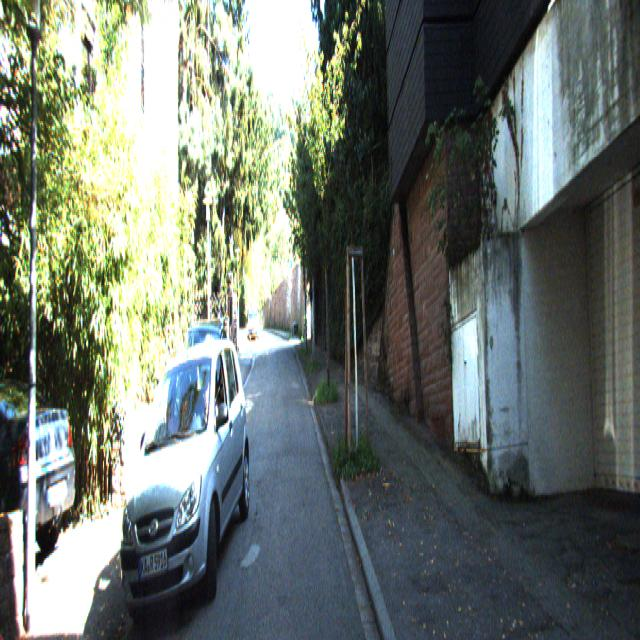Car: (111, 316, 251, 629), (0, 352, 84, 599), (168, 318, 232, 496), (248, 308, 260, 344)
